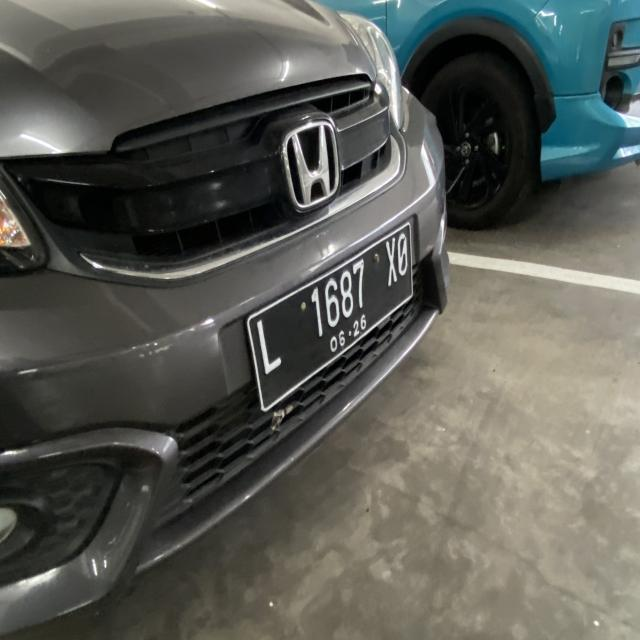1: (306, 284, 326, 338)
6: (326, 279, 339, 328)
7: (354, 260, 367, 310)
8: (340, 268, 354, 320)
L: (253, 314, 287, 378)
O: (397, 231, 412, 278)
X: (384, 240, 396, 286)
